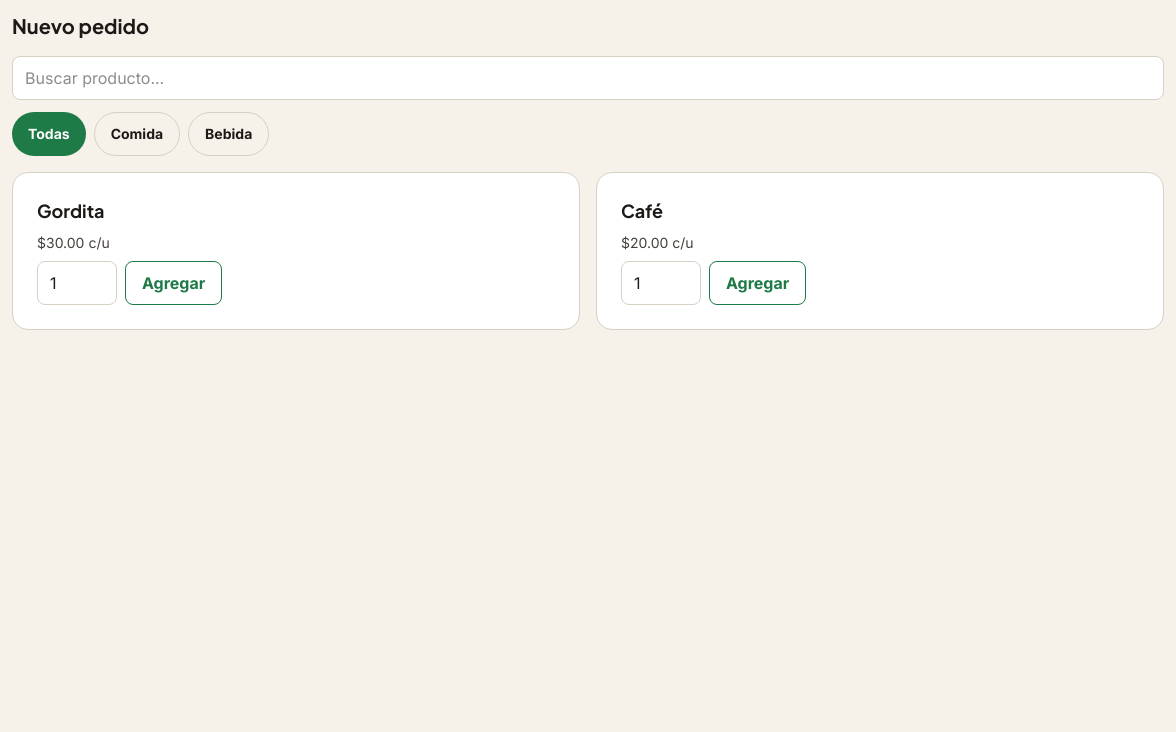
Scenario: caja rediseñada › catálogo filtra por texto y categoría, stepper y flotante con total
Expected: the heading "Gordita" is shown, [37, 197, 104, 225]
Type "café" into the field labelled "Buscar producto..." at (588, 78), box [12, 56, 1164, 100]
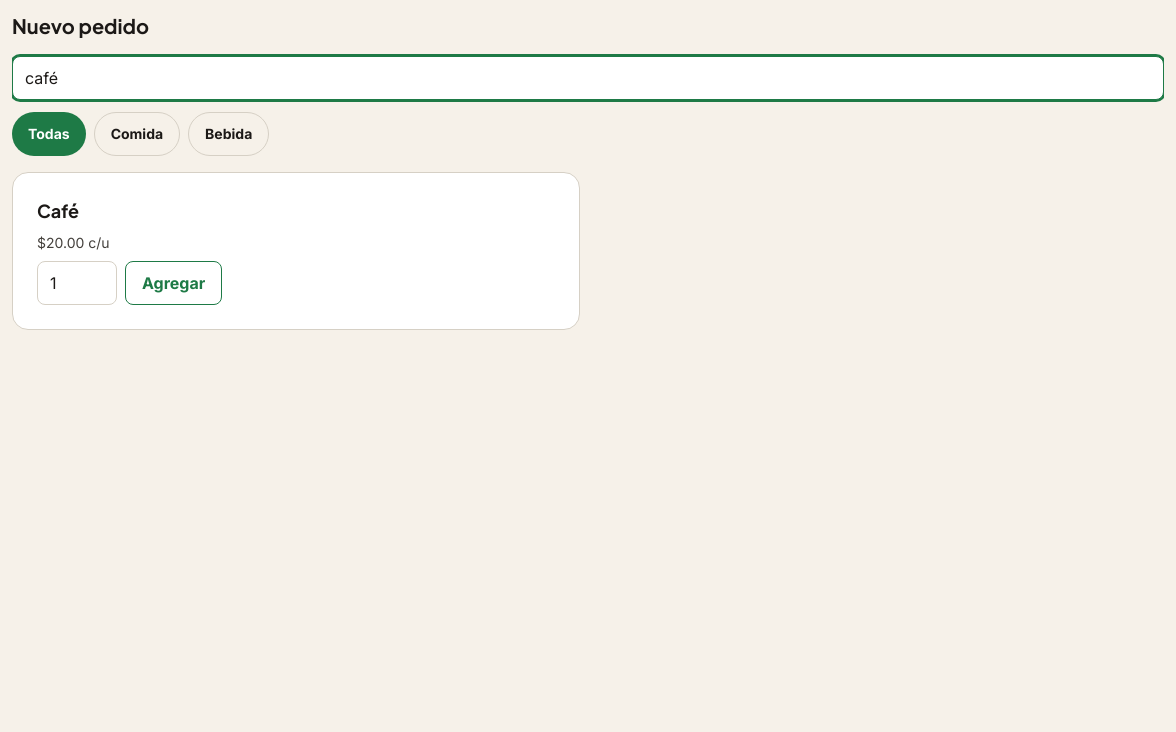
Result: the heading "Gordita" is gone
Clear the field named "Buscar" at (588, 78), box [12, 56, 1164, 100]
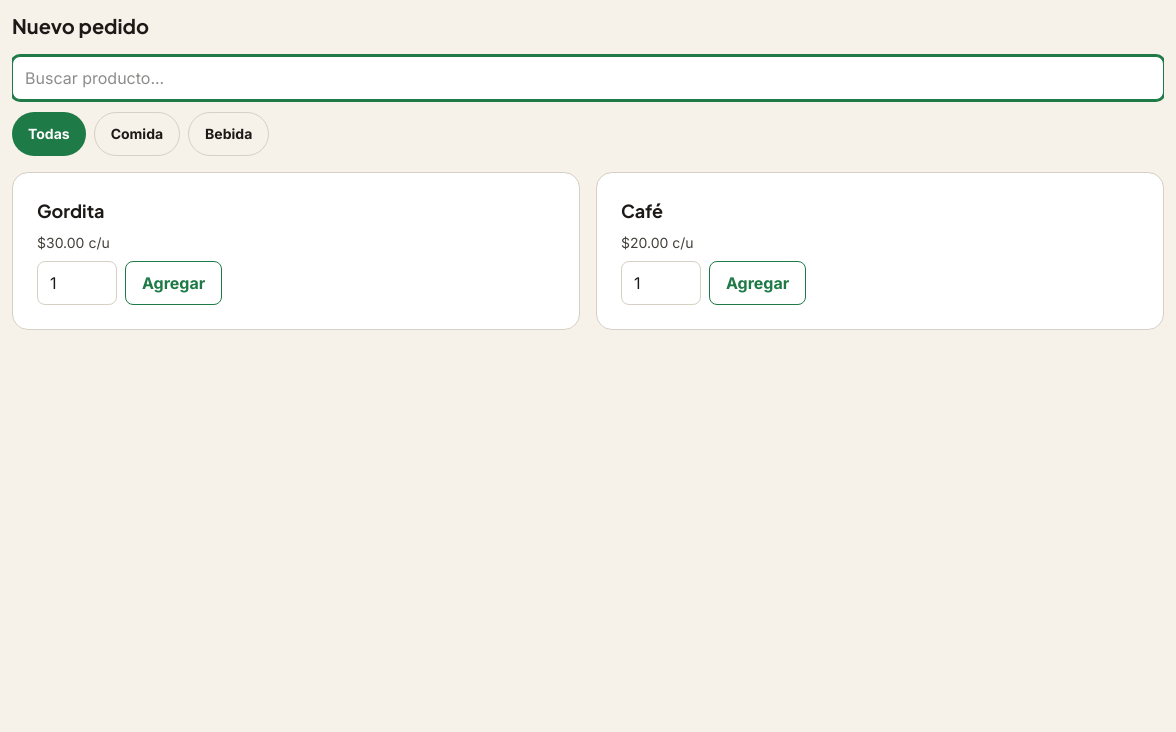
Click the button "Comida" at (137, 134), box [94, 112, 180, 156]
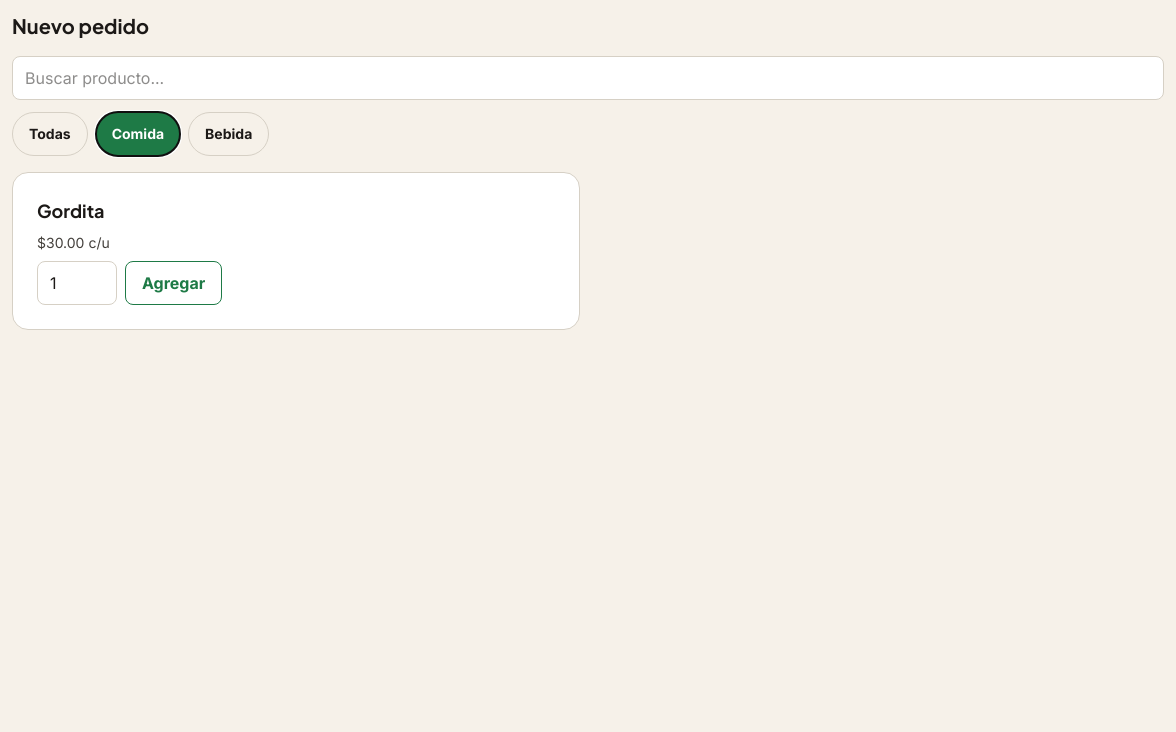
Result: the heading "Gordita" is shown at [37, 197, 104, 225]
Result: the heading "Café" is gone
Click the button with aria-label "Agregar Gordita" at (174, 283), box [125, 261, 222, 305]
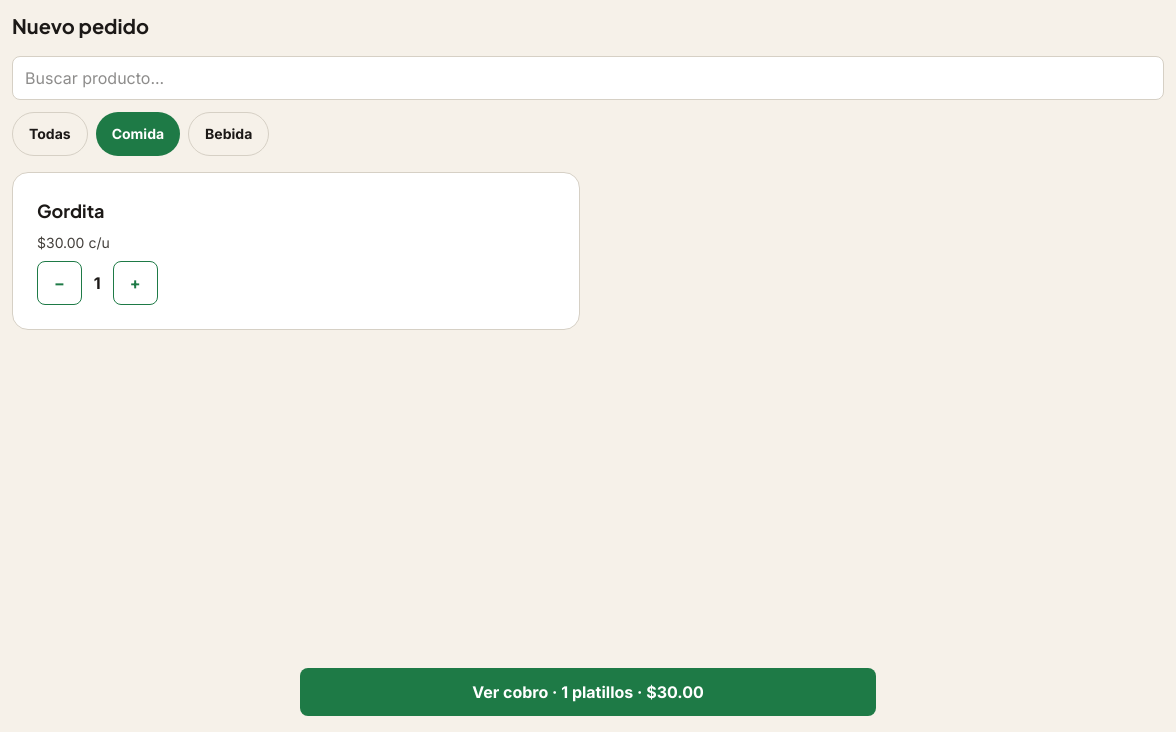
Click the button named "Agregar uno más de Gordita" at (135, 283), box [113, 261, 158, 305]
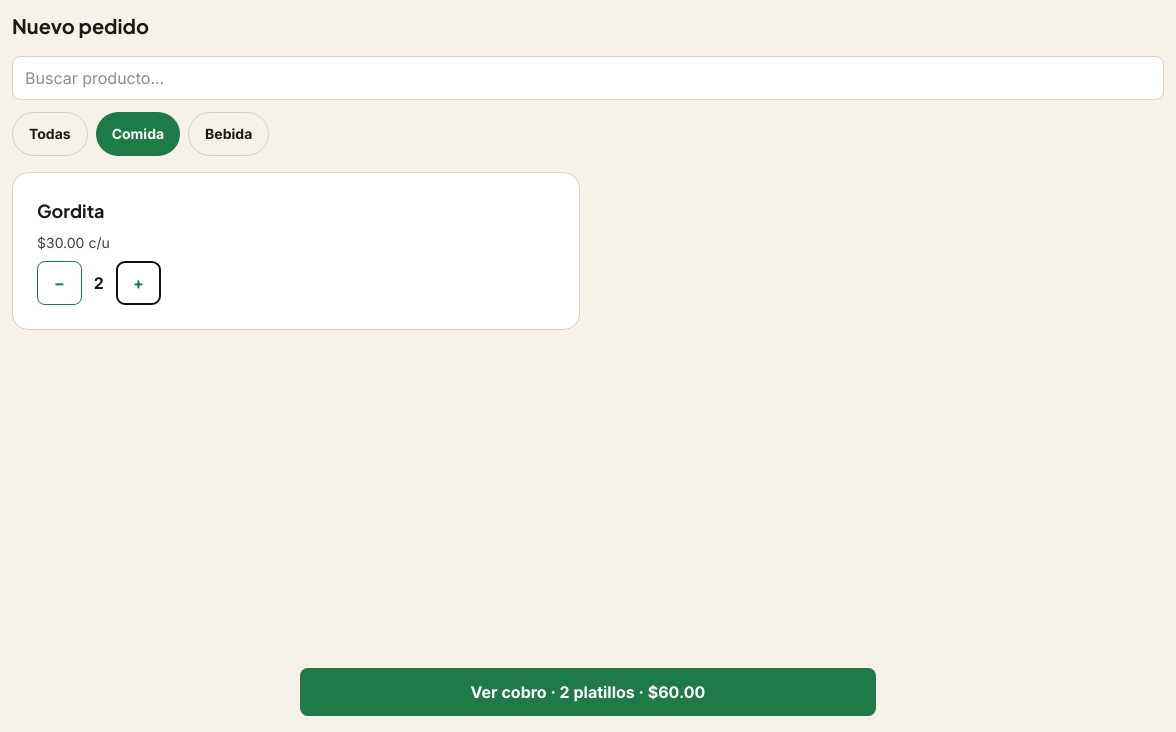
Result: the link "Ver cobro · 2 platillos · $60.00" is shown at [300, 668, 876, 716]
